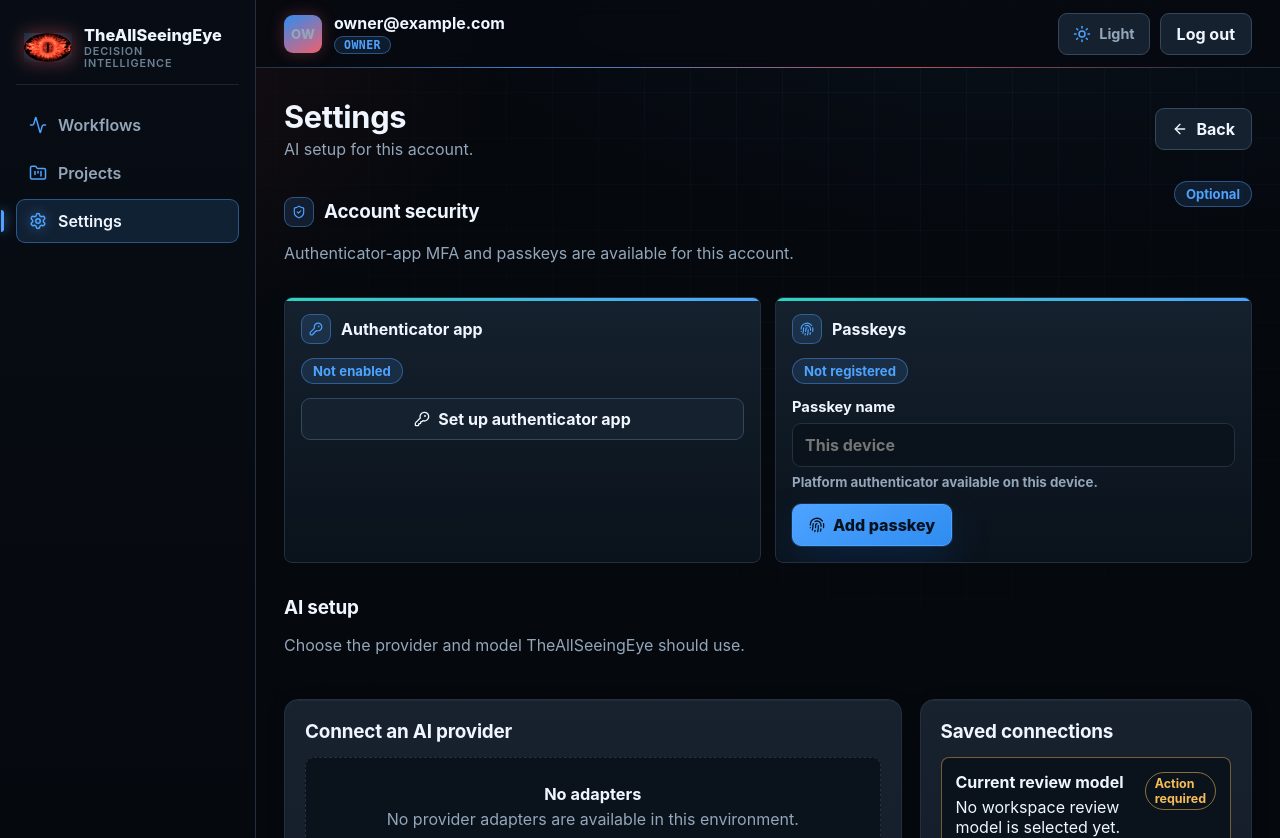
Test case: MFA passkeys › registers an unnamed passkey with the default label
The image size is (1280, 838).
Click the button "Add passkey".
click(872, 525)  # box top-left (792, 504), bottom-right (952, 546)
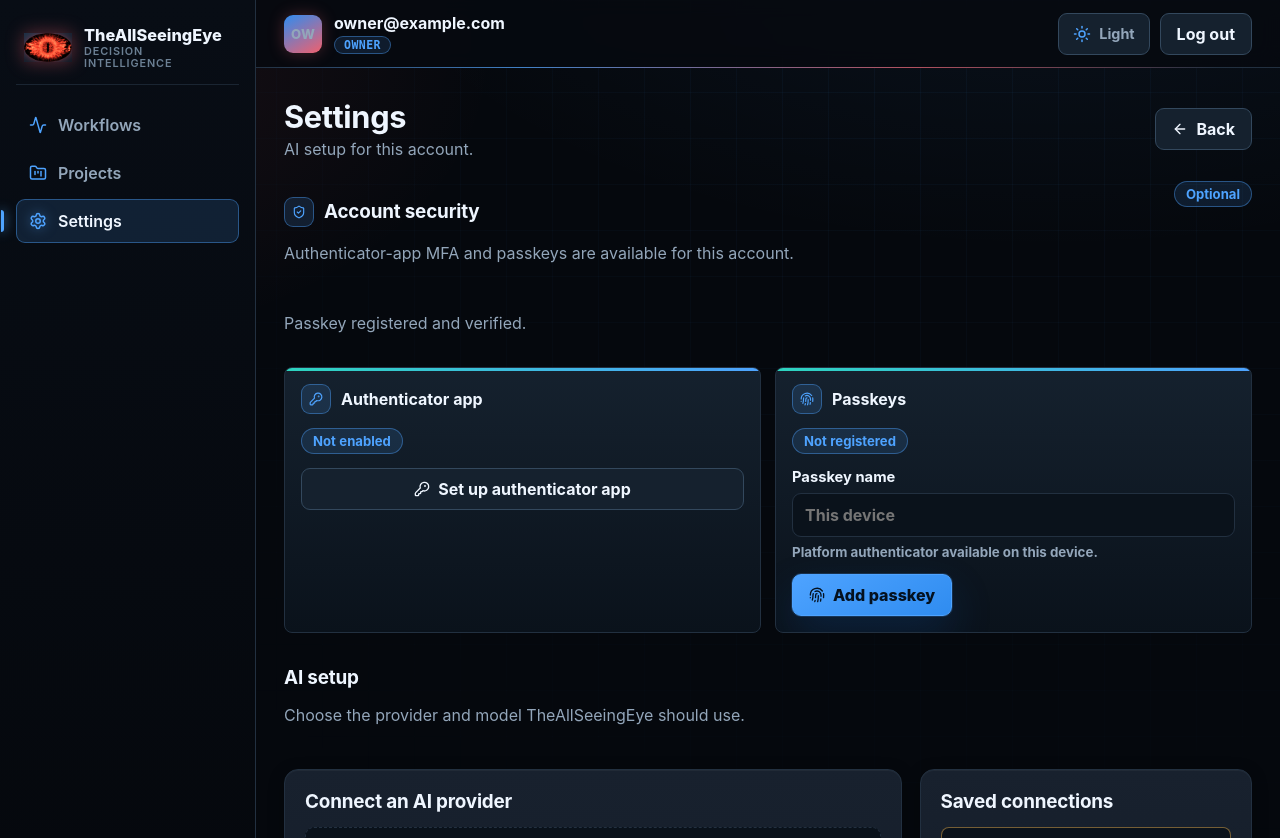
Now the text "Passkey registered and verified." is shown, box top-left (284, 313), bottom-right (526, 333)
